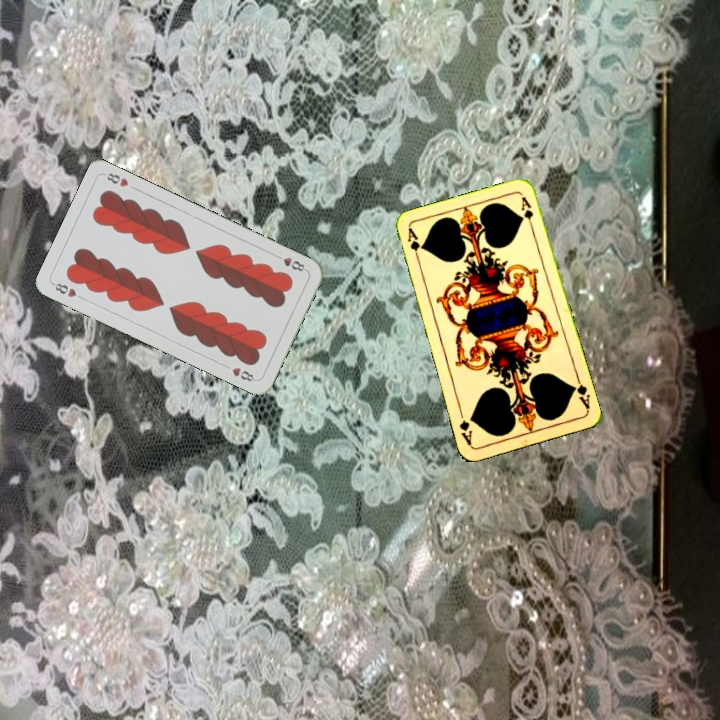GA: (568, 372, 593, 412), (403, 225, 423, 265)
H8: (271, 251, 309, 274), (49, 279, 79, 300)
